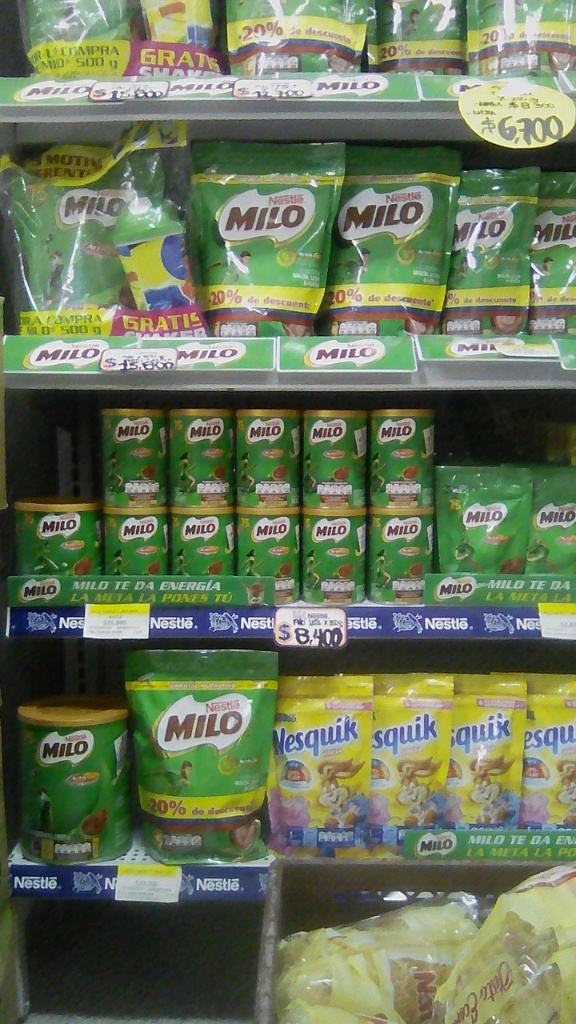COL0170203DYP10000: (431, 464, 534, 577)
COL0170203DYP25000: (445, 163, 536, 335)
COL0170203DYP50000: (10, 175, 122, 309)
COL0170203LAT20000: (370, 506, 438, 602)
COL0170203LAT40000: (11, 495, 104, 575)
COL0170305DYP20000: (511, 673, 576, 831)
